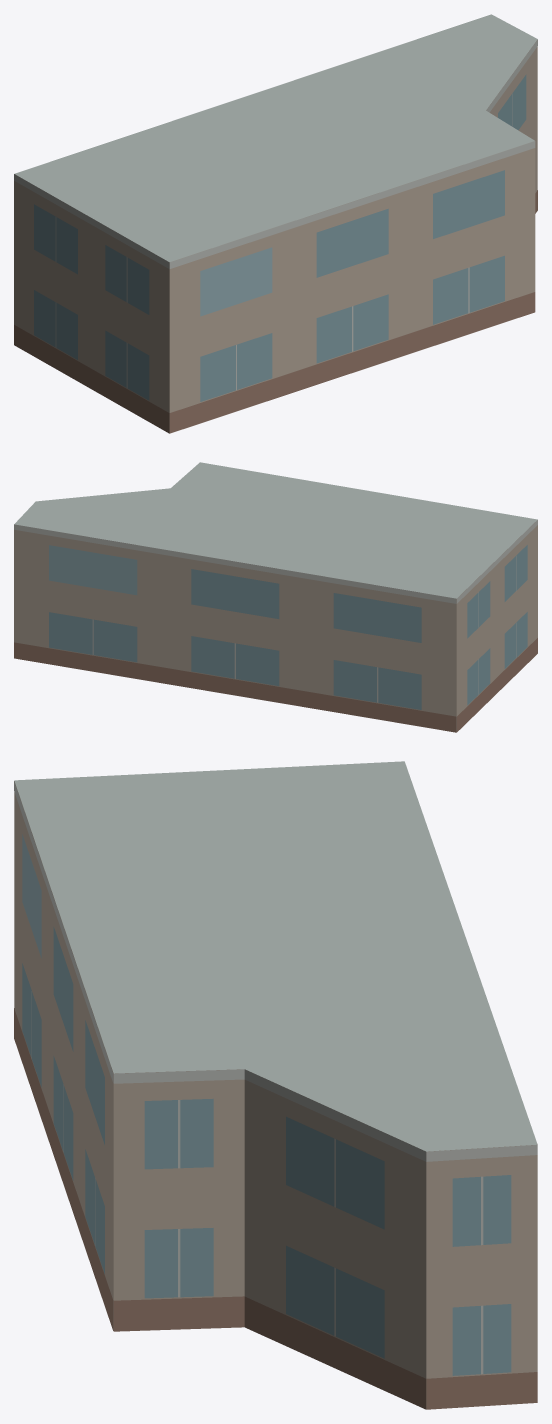
File: survey-upis-32861508.glb
3 views of the same model, one above another, from view 1: azimuth 30°, elevation 25°; view 2: azimuth 150°, elevation 25°; view 3: azimuth 270°, elevation 25° (orthographic). The views are drawn at different scales.
Parts seen in each view (by area): view 1: survey-upis-32861508.tmp; view 2: survey-upis-32861508.tmp; view 3: survey-upis-32861508.tmp.
Boxes of the visible parts, x1=… form: survey-upis-32861508.tmp: x1=14, y1=14, x2=537, y2=433; survey-upis-32861508.tmp: x1=14, y1=462, x2=537, y2=732; survey-upis-32861508.tmp: x1=14, y1=761, x2=537, y2=1409.
Bounding box in the file's own units: 19.8 × 6.1 × 11.23.
